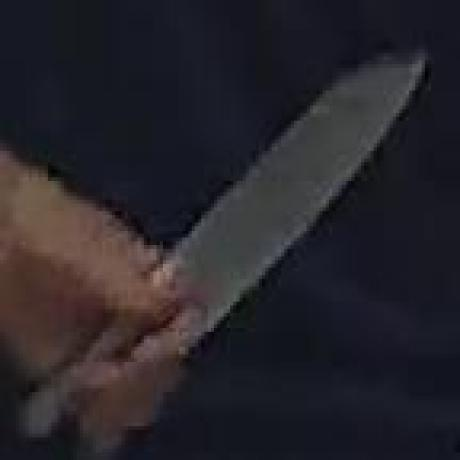weapon: (170, 57, 438, 354)
